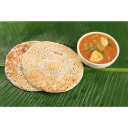dosa: (3, 40, 82, 94)
